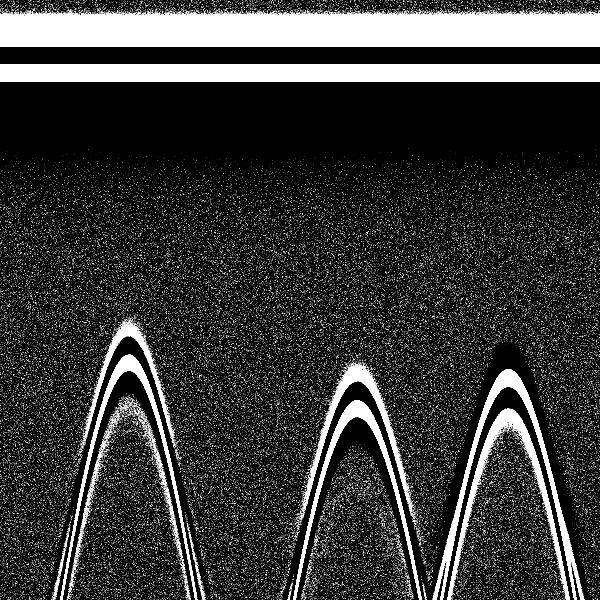pipe: (76, 5, 178, 438), (309, 3, 401, 453), (463, 7, 553, 447)
